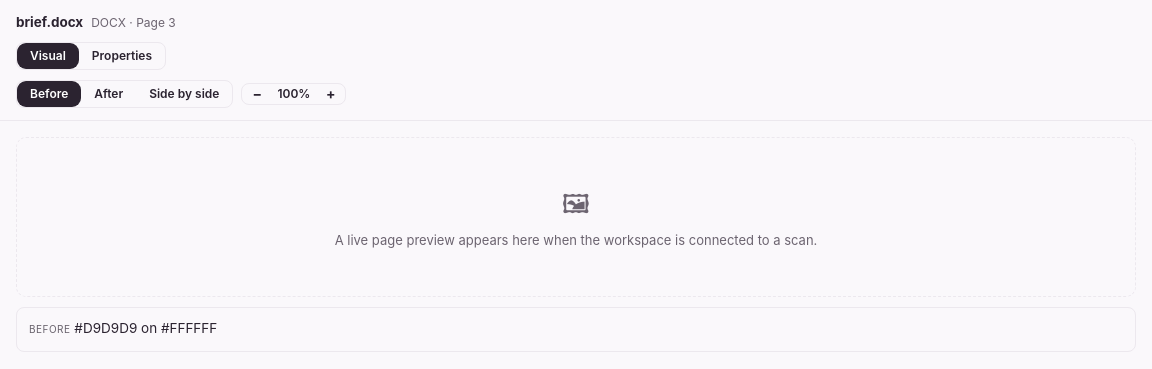
Test: RemediationPreview — contextual document pane › shows a "✓ <what changed>" callout only once the fix is actually applied
This screenshot has width=1152, height=369.
Click the tab "After".
click(109, 94)  # box x1=81 y1=81 x2=136 y2=107
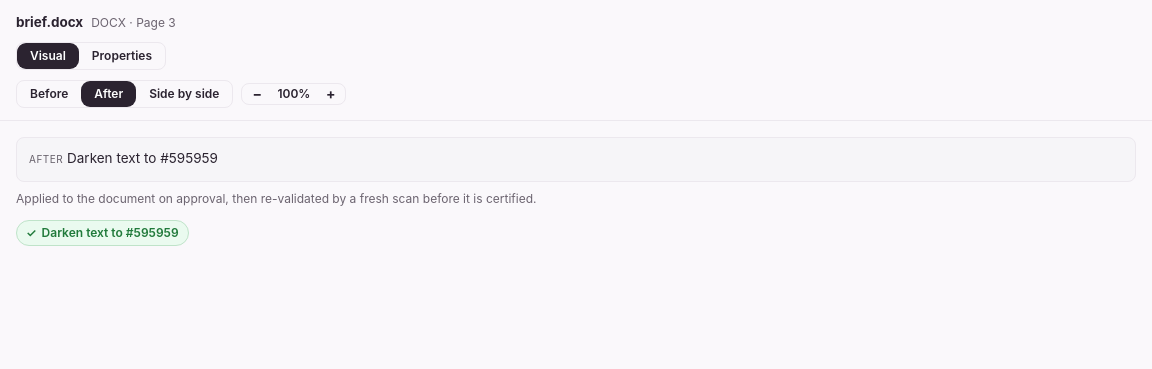
expect the element with class "fix-callout" is shown: met, box x1=16 y1=220 x2=189 y2=246
expect the element with class "fix-callout" shows "Darken text to #595959": met, box x1=42 y1=225 x2=179 y2=240
